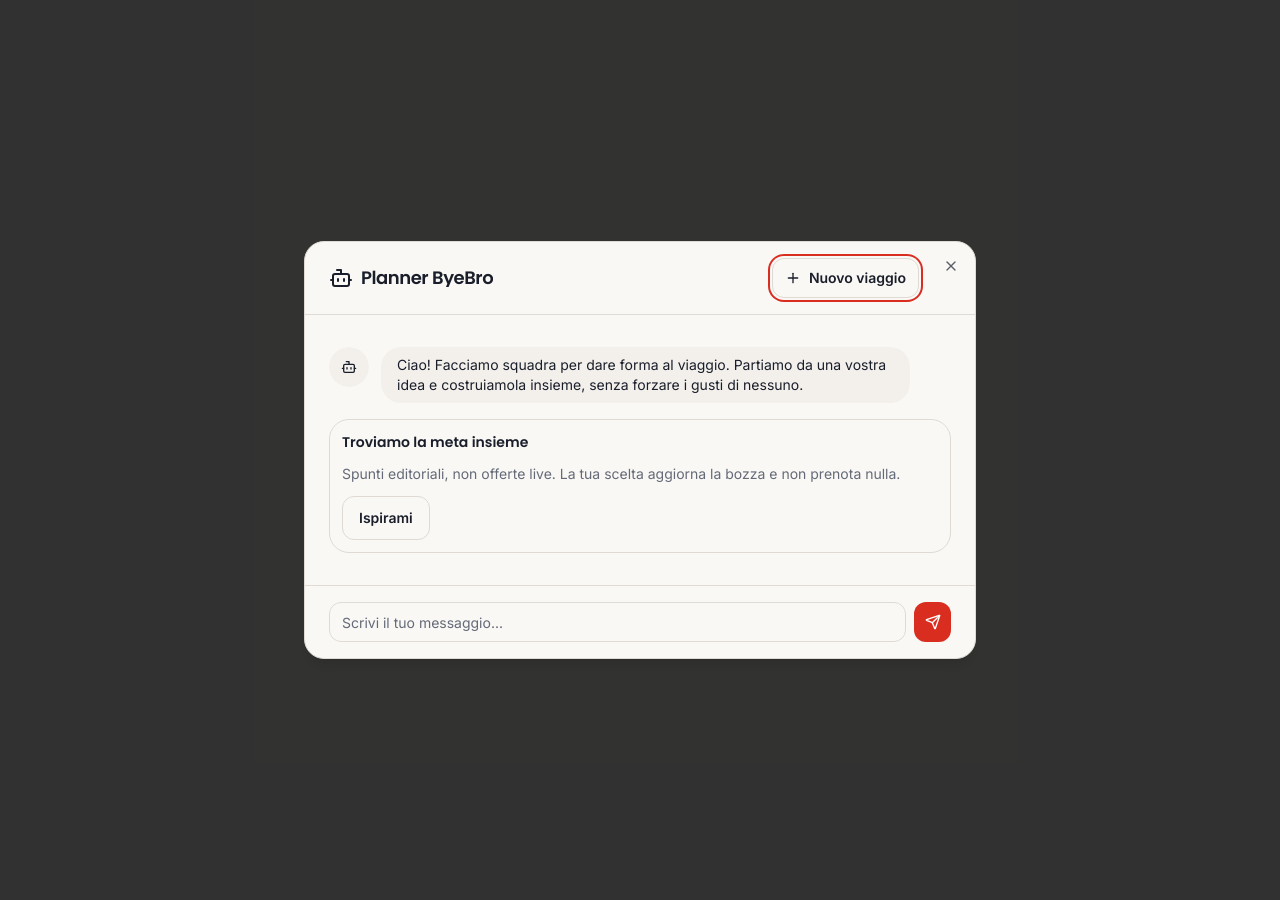
Test case: PlannerDialog › moves from collection to review only after a validated complete tool result
The width and height of the screenshot is (1280, 900).
Type "Siamo in sei, 700 euro a testa" into the field at (618, 622), box [329,602,906,642]
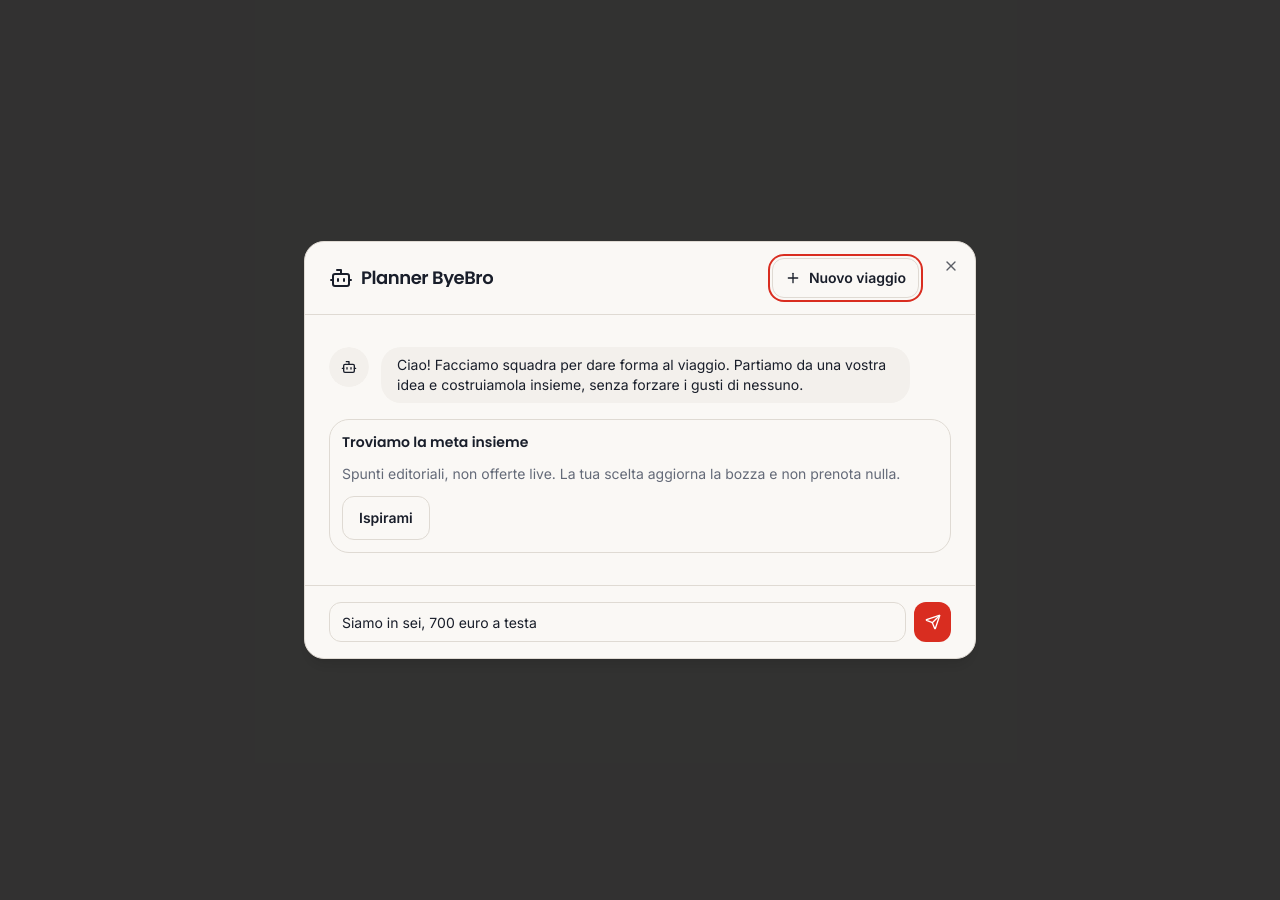
Click the button named "Invia messaggio" at (932, 622), box [914,602,951,642]
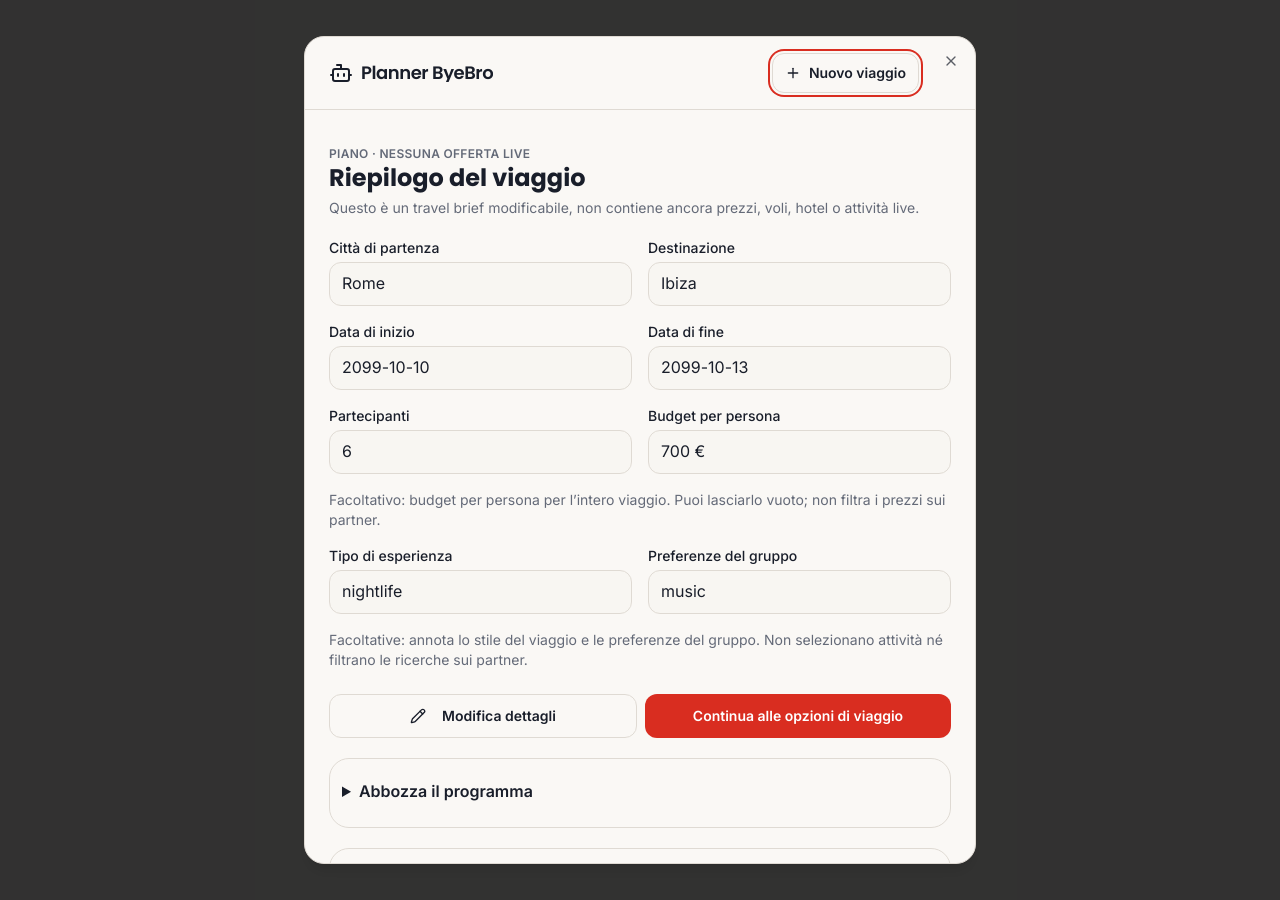
expect the form with test id "planner-review" is shown: met, box [329,238,951,738]
